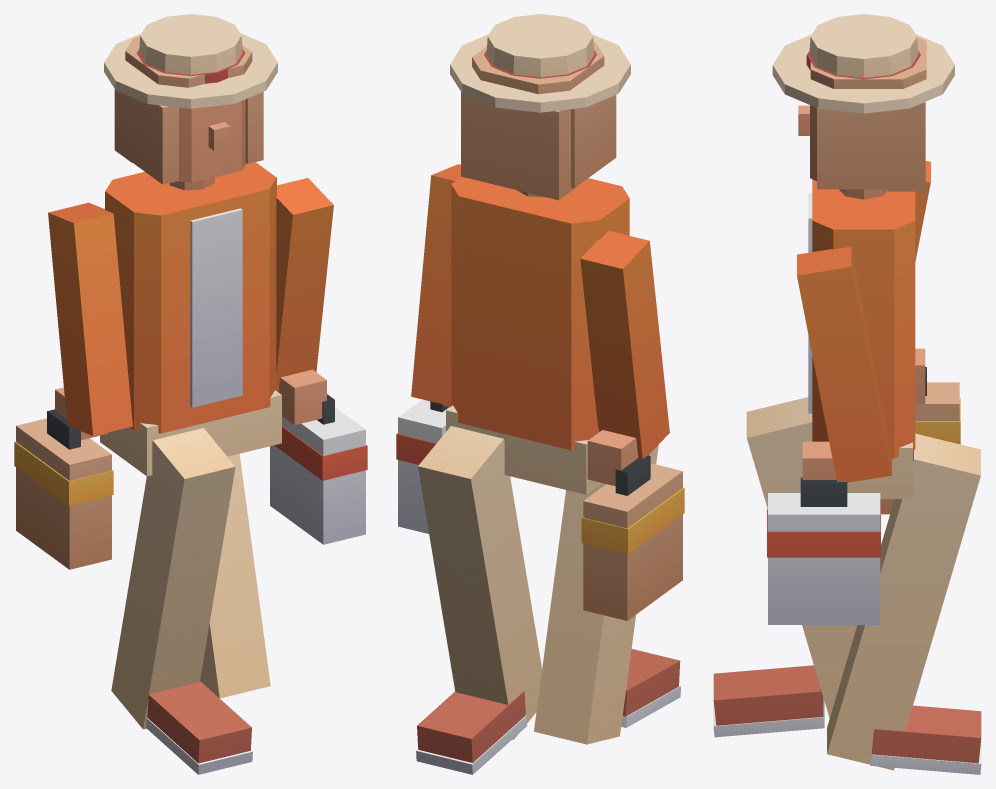
Rendered from citizen_shopper_f.glb.
3 views of the same model, side by side, from view 1: azimuth 30°, elevation 25°; view 2: azimuth 150°, elevation 25°; view 3: azimuth 270°, elevation 25° (orthographic). The views are drawn at different scales.
Visible parts, largest first — view 1: citizen_shopper_f; view 2: citizen_shopper_f; view 3: citizen_shopper_f.
Boxes of the visible parts, x1,y1,x2,y2 form: citizen_shopper_f: (14, 14, 367, 774); citizen_shopper_f: (396, 14, 684, 774); citizen_shopper_f: (713, 14, 981, 774).
Bounding box in the file's own units: 0.676 × 1.66 × 0.5728.
1 material, 1 textured.
